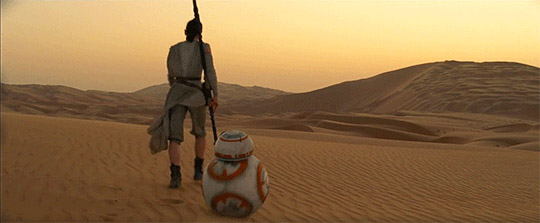bb8: (201, 129, 270, 218)
